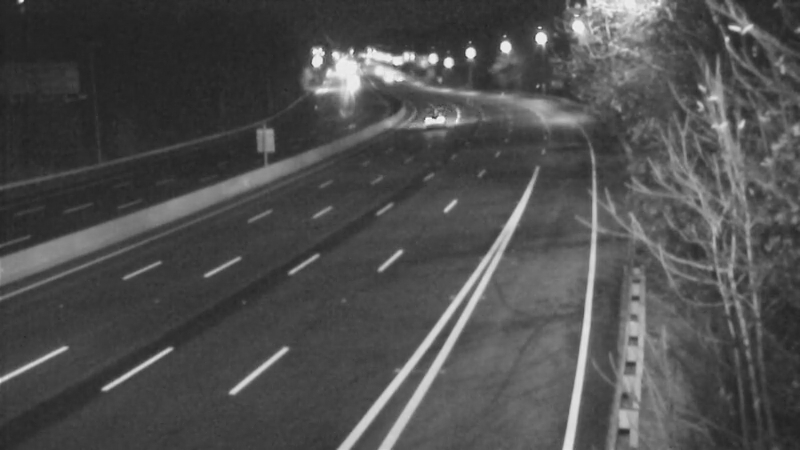vehicle: (412, 93, 462, 143), (329, 67, 379, 117)
